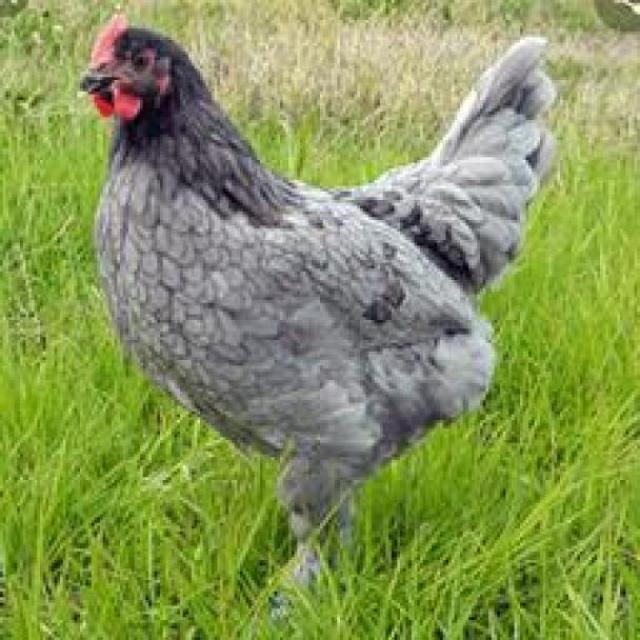Chicken: (65, 13, 554, 618)
